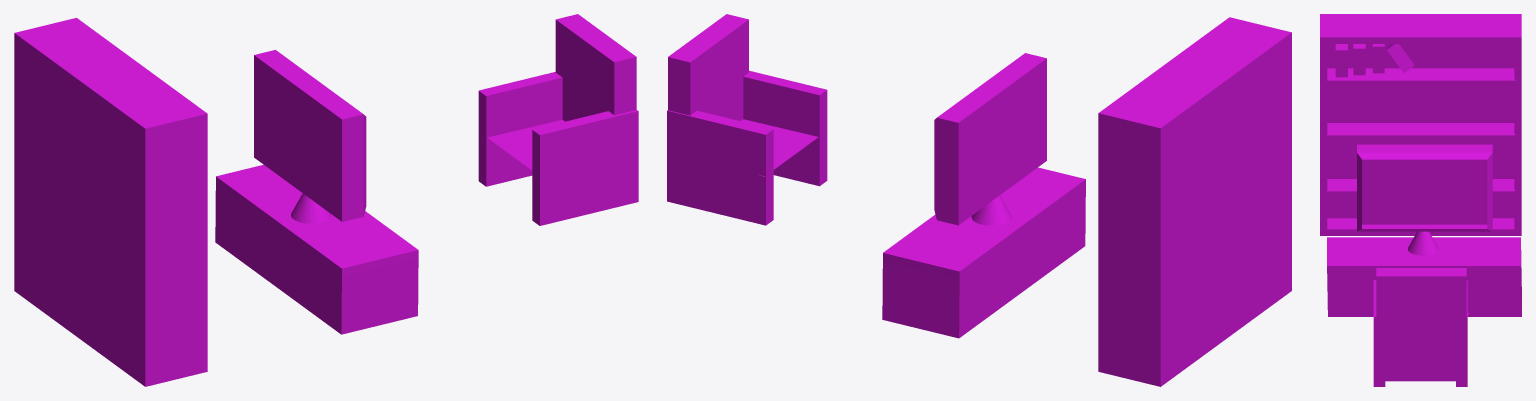
Rendered from kutuphane.fbx.
3 renders of one model, left to right at view 1: azimuth 30°, elevation 25°; view 2: azimuth 150°, elevation 25°; view 3: azimuth 270°, elevation 25°, orthographic. The views are drawn at different scales.
Parts seen in each view (by area): view 1: Cube; view 2: Cube; view 3: Cube.
Boxes of the visible parts, <box> form: Cube: <box>14,14,638,386</box>; Cube: <box>667,14,1291,386</box>; Cube: <box>1320,14,1521,386</box>.
Bounding box in the file's own units: 1346 × 630 × 579.
